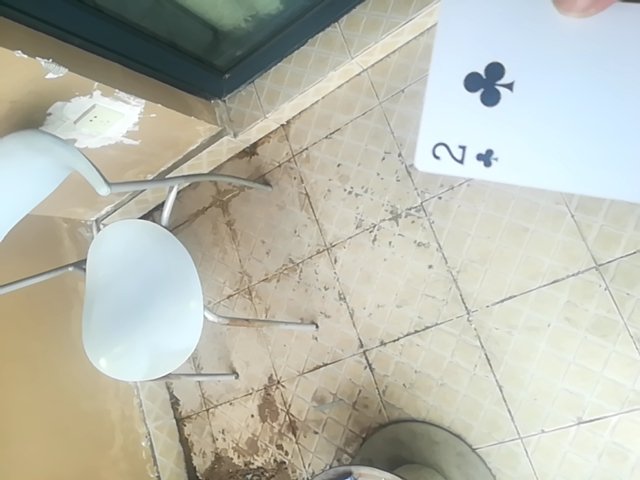mh 2: (414, 3, 637, 213)
